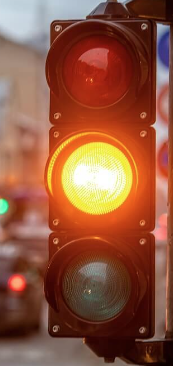yellow: (41, 6, 173, 350)
